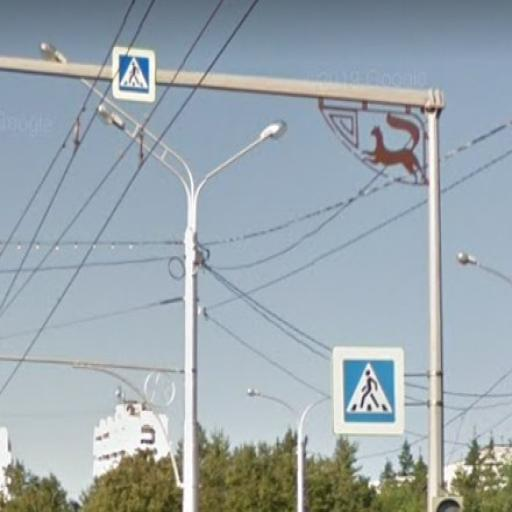traffic_sign: (329, 341, 410, 441), (109, 44, 159, 106)
